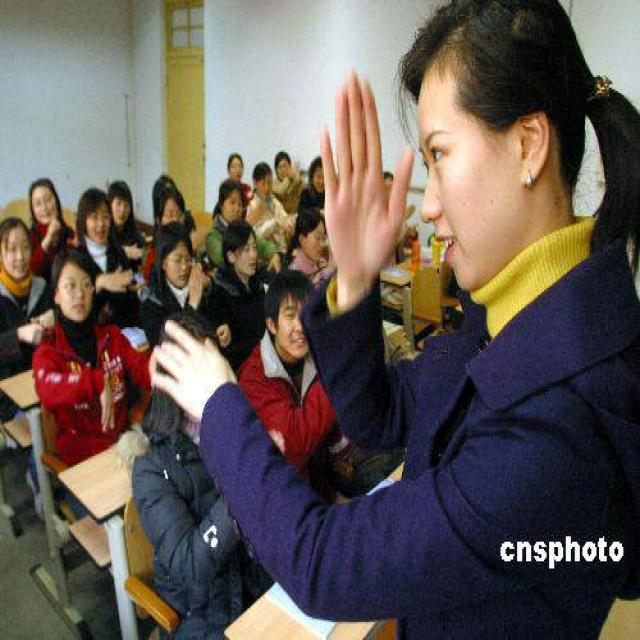head: (401, 7, 595, 283), (147, 309, 223, 431), (261, 266, 321, 360), (46, 246, 100, 324), (153, 218, 194, 286), (219, 215, 258, 277), (76, 186, 112, 238), (294, 205, 326, 258), (27, 175, 61, 224), (105, 175, 133, 225), (160, 186, 188, 236), (215, 177, 243, 222), (372, 159, 396, 202), (152, 168, 178, 206), (306, 152, 329, 191), (252, 157, 274, 197), (274, 146, 292, 182), (224, 148, 244, 180)
